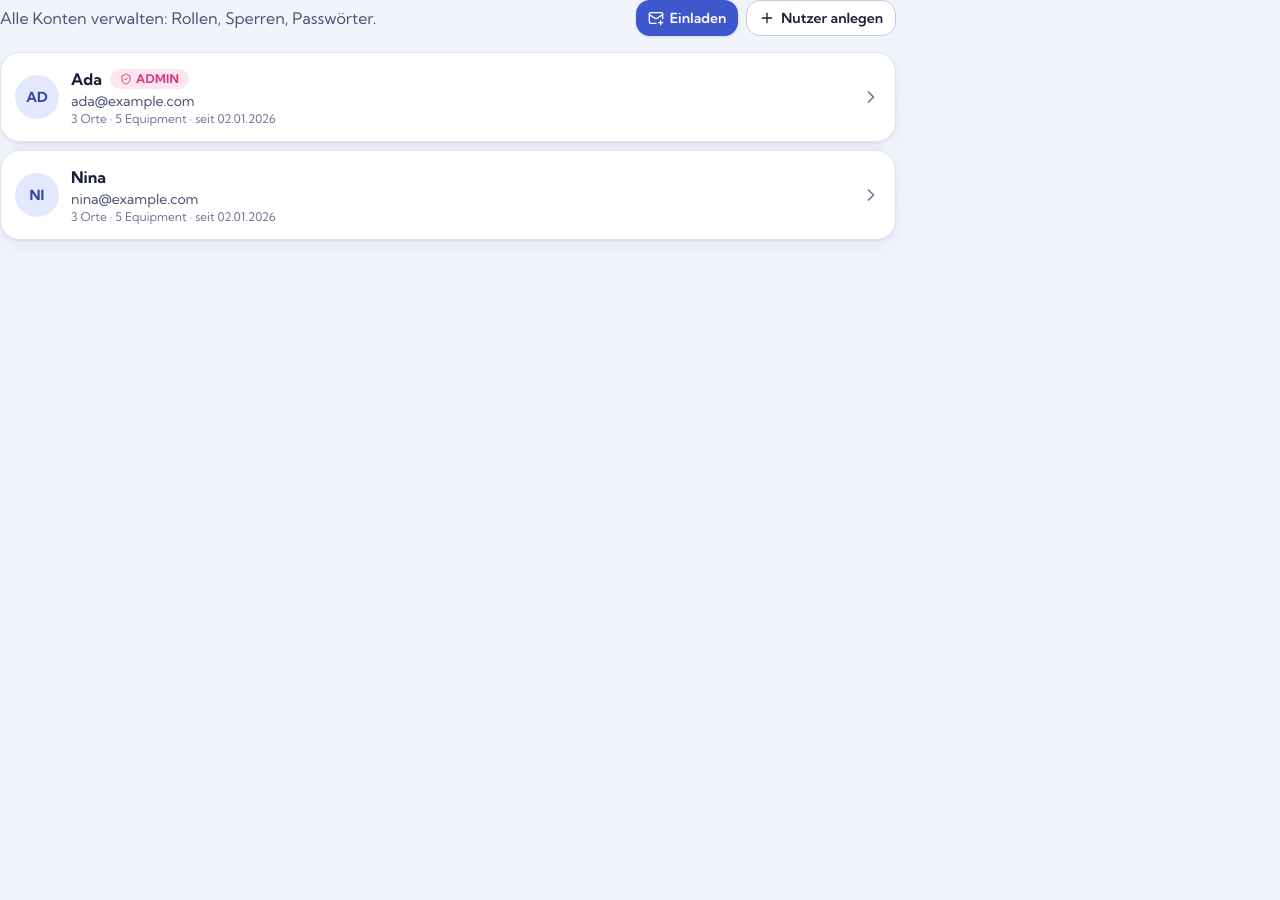
Test: InviteSheet › explains refusals such as an address that already has an account
Click the button "Einladen". click: (687, 18)
box: [636,0,738,36]
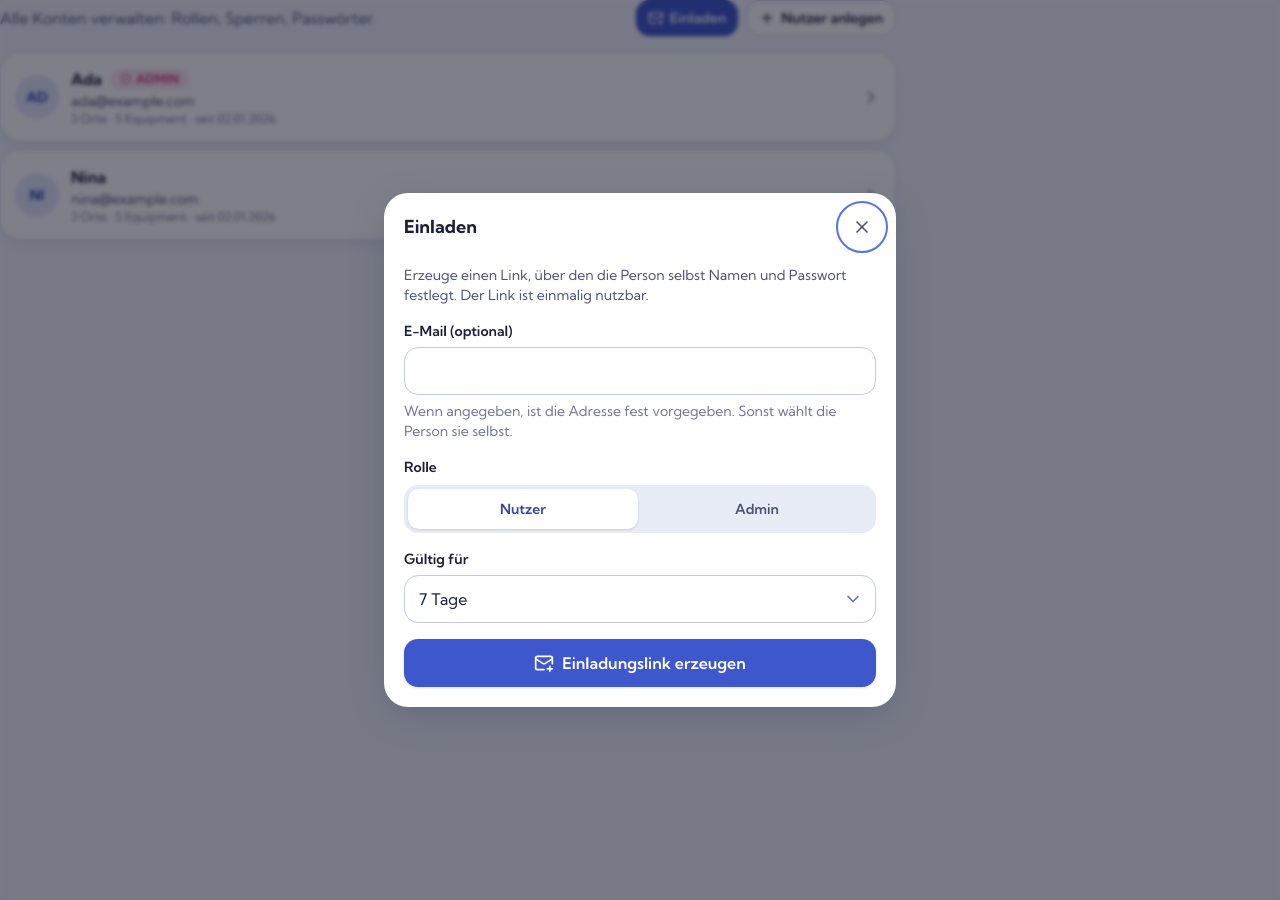
Click the button "Einladungslink erzeugen". click: (640, 663)
box: [404,639,876,687]
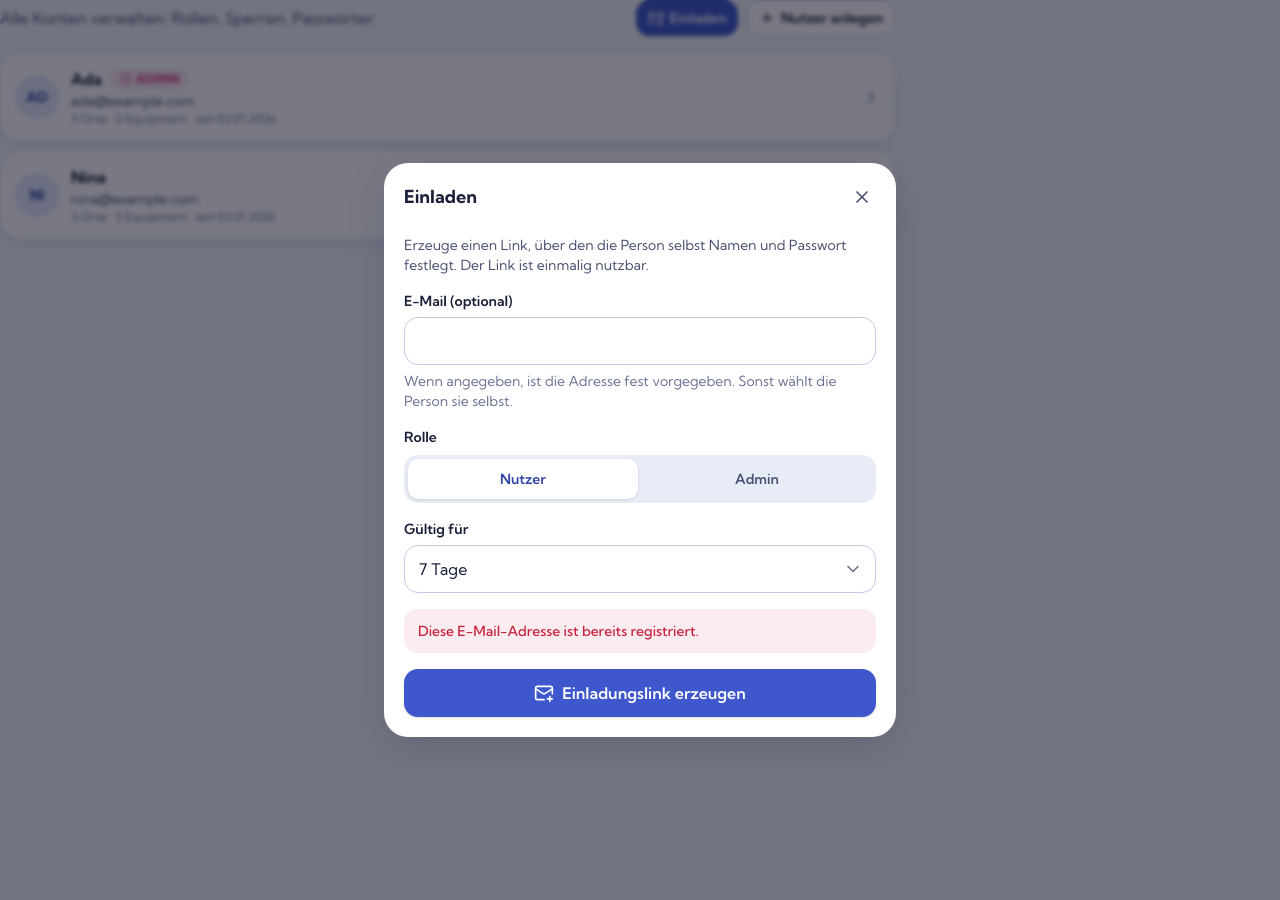
expect the message shows "bereits registriert": met, box [418,622,699,640]
